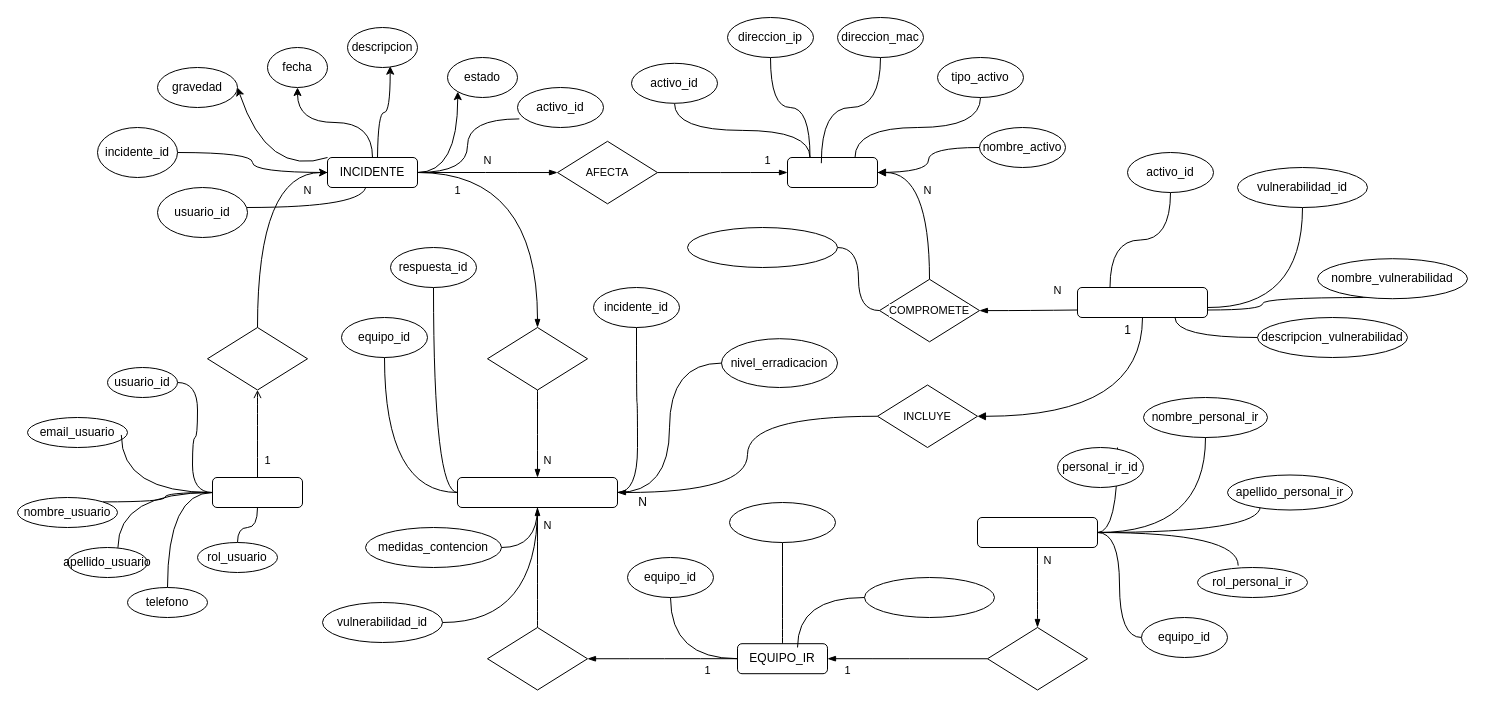
Image size: 1485x708. Some labels were removed from this diagram. The shapes that lost their labels are listed below. From the top down, each one's centre as x and y in pixels, then its label:
At point (832, 172): "ACTIVO".
At point (762, 247): "datos_comprometidos".
At point (1142, 302): "VULNERABILIDAD".
At point (257, 358): "REPORTA".
At point (537, 358): "TIENE".
At point (257, 492): "USUARIO".
At point (537, 492): "RESPUESTA_INCIDENTE".
At point (782, 522): "nombre_equipo".
At point (1037, 532): "PERSONAL_IR".
At point (929, 597): "descripcion_equipo".
At point (537, 658): "RESPONDE".
At point (1037, 658): "CONFORMA".
